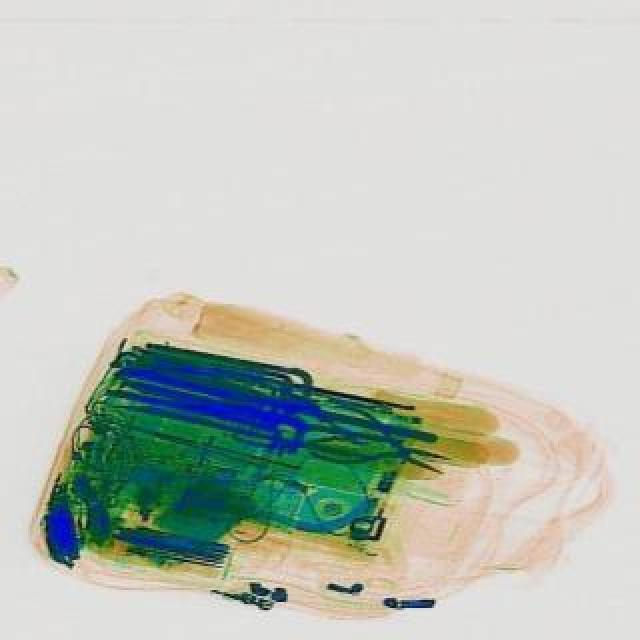wrench: (312, 400, 464, 500), (296, 408, 380, 464)
